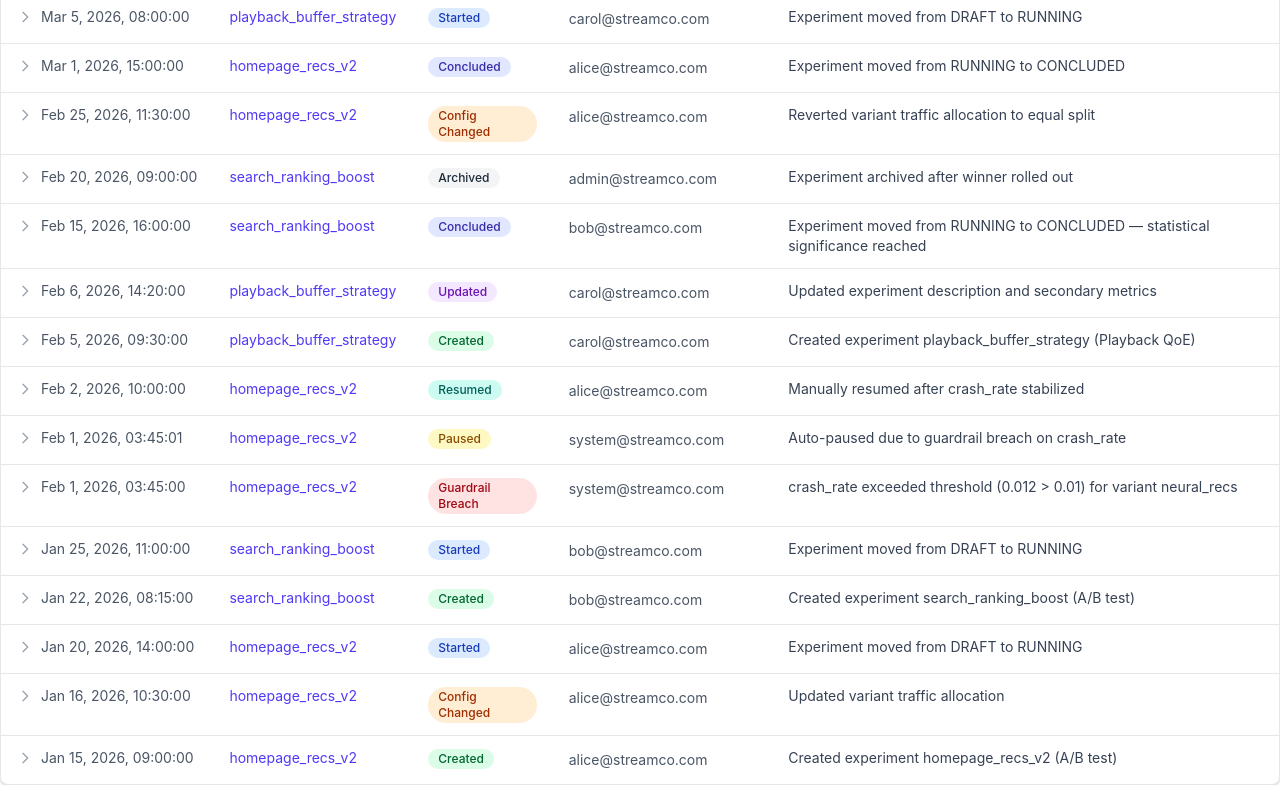
it: Audit Log Page › expanding a row shows details
This screenshot has width=1280, height=785.
(page scrolled)
What coordinates should you click on to do the following:
click the button with test id "audit-row-audit-002"
I would click on:
 (640, 704)
Its box is [1,674,1279,736].
(page scrolled)
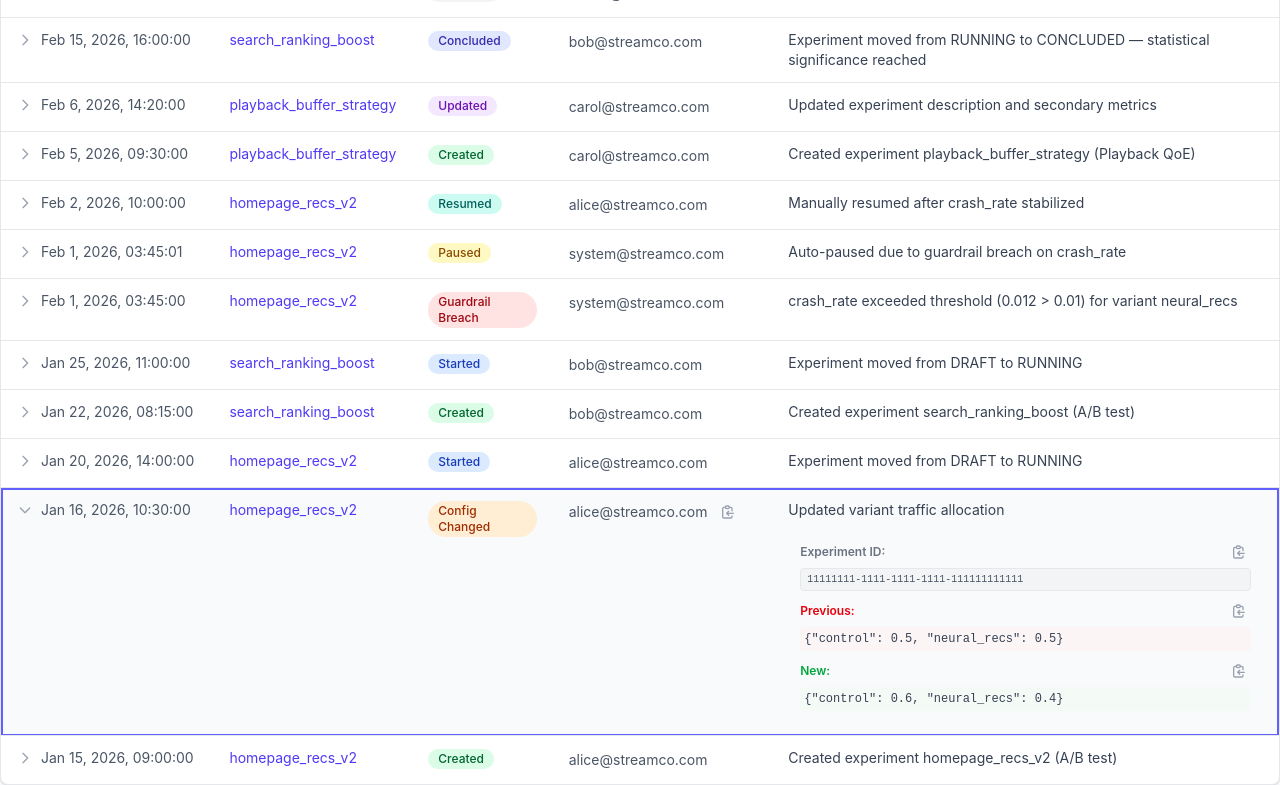
Expected: the element with test id "audit-detail-audit-002" is shown, [788,528,1263,723]
Expected: the text "Previous:" is shown, [800,603,855,619]
Expected: the text "New:" is shown, [800,663,830,679]
# Click again to collapse
What coordinates should you click on to do the following:
click the button with test id "audit-row-audit-002"
I would click on:
 (640, 612)
Its box is [1,488,1279,736].
(page scrolled)
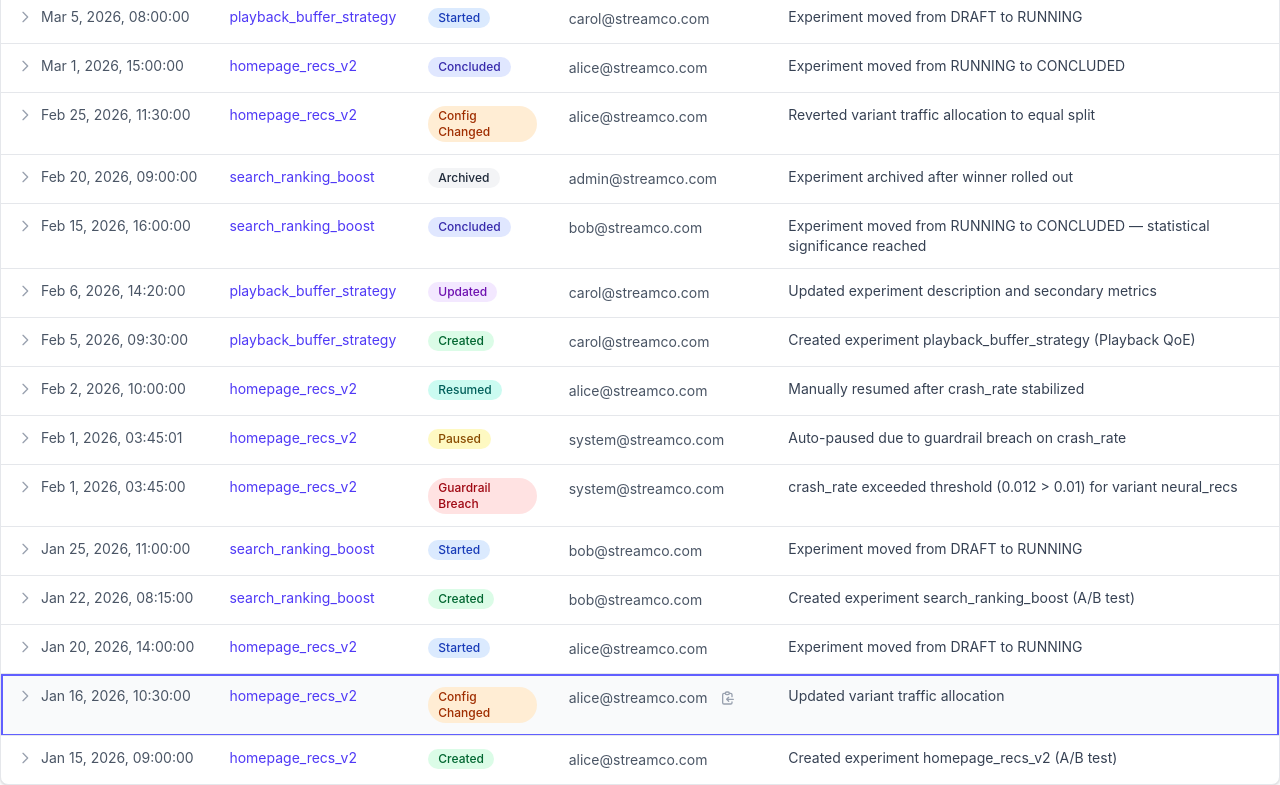
Expected: the element with test id "audit-detail-audit-002" is gone
